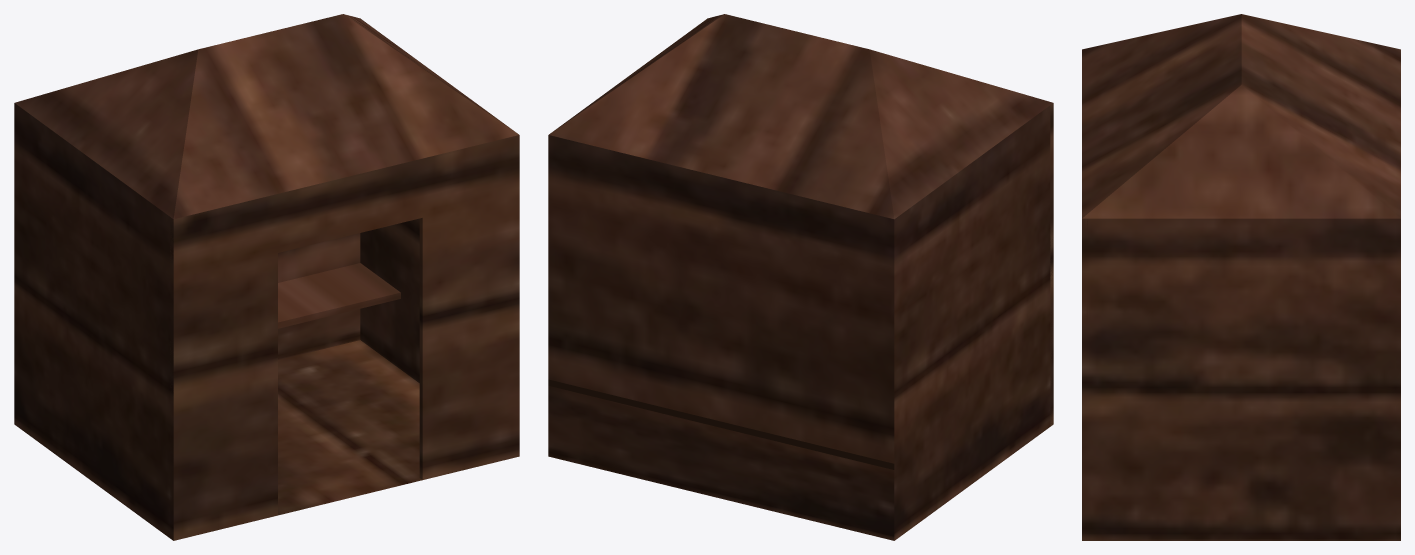
The model's file is shed.glb.
3 renders of one model, left to right at view 1: azimuth 30°, elevation 25°; view 2: azimuth 150°, elevation 25°; view 3: azimuth 270°, elevation 25°, orthographic.
Parts seen in each view (by area): view 1: Cube.004, Cube.001; view 2: Cube.004, Cube.001; view 3: Cube.004, Cube.001.
Part boxes in pixels (x1=…): Cube.004: x1=14, y1=103, x2=519, y2=540; Cube.001: x1=15, y1=14, x2=518, y2=219; Cube.004: x1=548, y1=103, x2=1053, y2=540; Cube.001: x1=549, y1=14, x2=1052, y2=219; Cube.004: x1=1082, y1=218, x2=1400, y2=540; Cube.001: x1=1082, y1=14, x2=1400, y2=218.
Size of the model in its own units: 25.49 by 28.72 by 20.31.
Materials: 29 (29 with a texture image).
